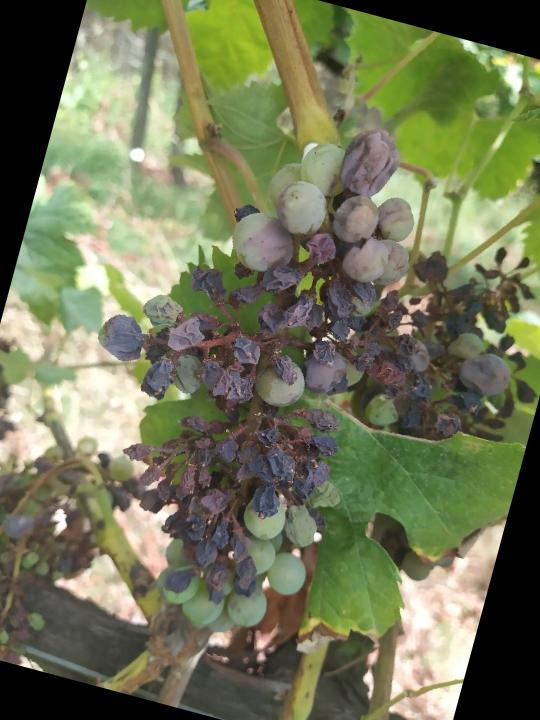grape: (26, 68, 487, 676)
